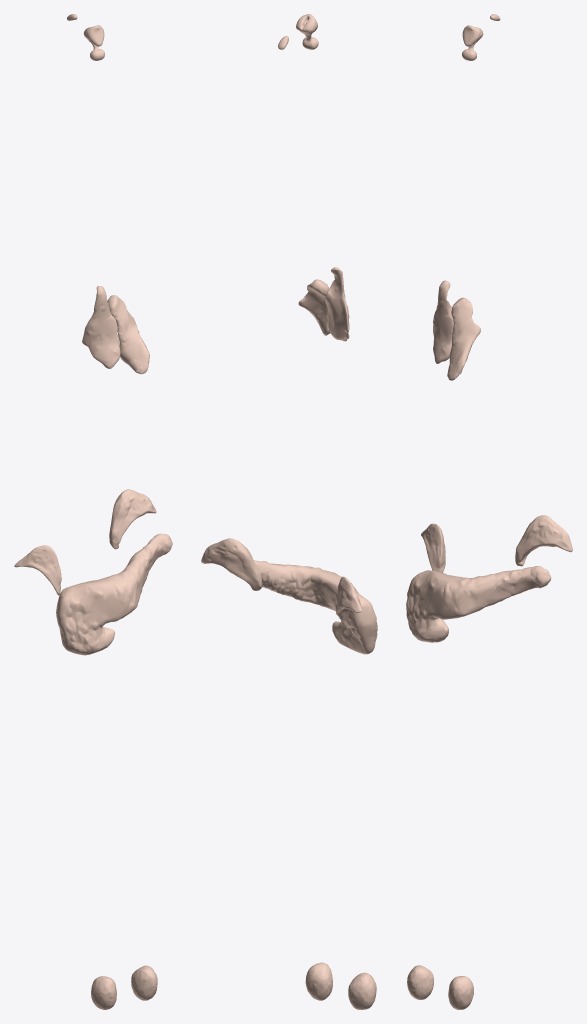
The model's file is druesen.glb.
3 views of the same model, side by side, from view 1: azimuth 30°, elevation 25°; view 2: azimuth 150°, elevation 25°; view 3: azimuth 330°, elevation 25° (orthographic). The views are drawn at different scales.
Parts seen in each view (by area): view 1: bauchspeicheldruese, thymus, nebenniere-l, nebenniere-r, hoden-l, hoden-r; view 2: bauchspeicheldruese, thymus, nebenniere-l, hoden-r, hoden-l, nebenniere-r; view 3: bauchspeicheldruese, thymus, nebenniere-l, nebenniere-r, hoden-r, hoden-l.
Boxes of the visible parts, bbox=[...] form: bauchspeicheldruese: bbox=[56, 533, 172, 655]; thymus: bbox=[82, 286, 149, 374]; nebenniere-l: bbox=[109, 489, 156, 549]; nebenniere-r: bbox=[14, 545, 61, 595]; hoden-l: bbox=[131, 965, 157, 1000]; hoden-r: bbox=[91, 976, 116, 1009]; bauchspeicheldruese: bbox=[227, 560, 377, 654]; thymus: bbox=[298, 267, 349, 341]; nebenniere-l: bbox=[201, 538, 262, 590]; hoden-r: bbox=[348, 972, 376, 1009]; hoden-l: bbox=[305, 962, 332, 1000]; nebenniere-r: bbox=[335, 576, 361, 620]; bauchspeicheldruese: bbox=[406, 566, 551, 642]; thymus: bbox=[433, 280, 480, 380]; nebenniere-l: bbox=[515, 515, 572, 566]; nebenniere-r: bbox=[421, 523, 445, 572]; hoden-r: bbox=[407, 965, 433, 999]; hoden-l: bbox=[448, 976, 473, 1009].
Size of the model in its own units: 0.138 by 0.8629 by 0.1048.
